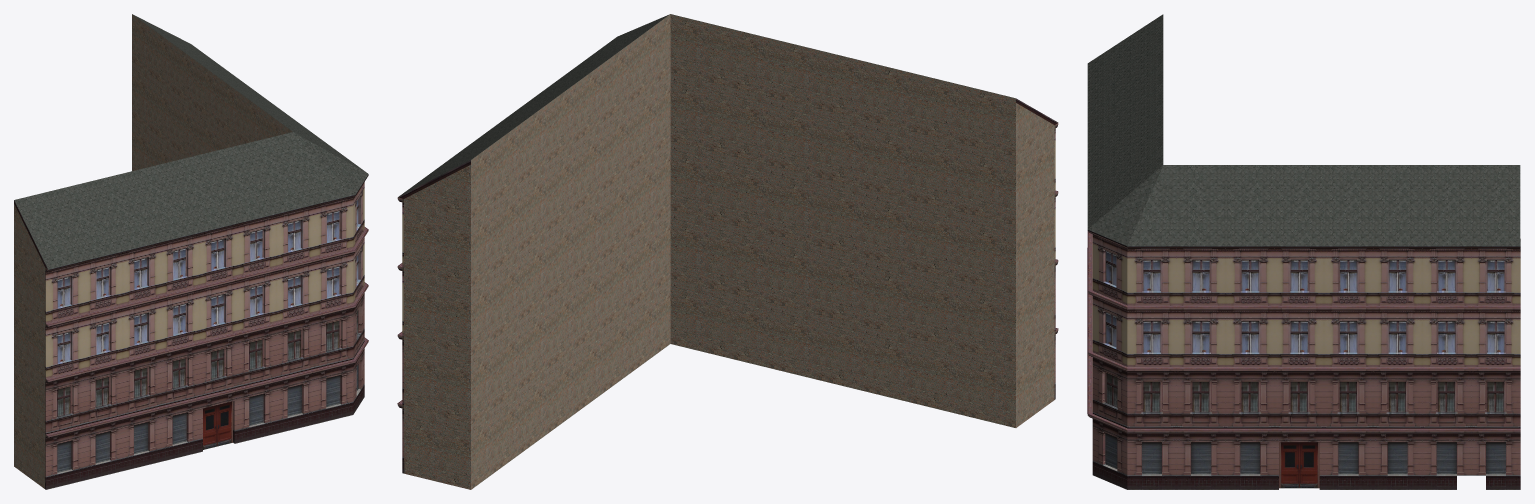
File: PBP1_Corner3.fbx
The picture shows the model from 3 angles, left to right: view 1: azimuth 30°, elevation 25°; view 2: azimuth 150°, elevation 25°; view 3: azimuth 270°, elevation 25°; orthographic projection. The views are drawn at different scales.
Parts seen in each view (by area): view 1: PBP1_Corner3; view 2: PBP1_Corner3; view 3: PBP1_Corner3.
Part boxes in pixels (bbox=[...]): PBP1_Corner3: bbox=[14, 14, 368, 489]; PBP1_Corner3: bbox=[397, 14, 1058, 489]; PBP1_Corner3: bbox=[1087, 14, 1520, 489].
Bounding box in the file's own units: 2139 × 2139 × 1609.
